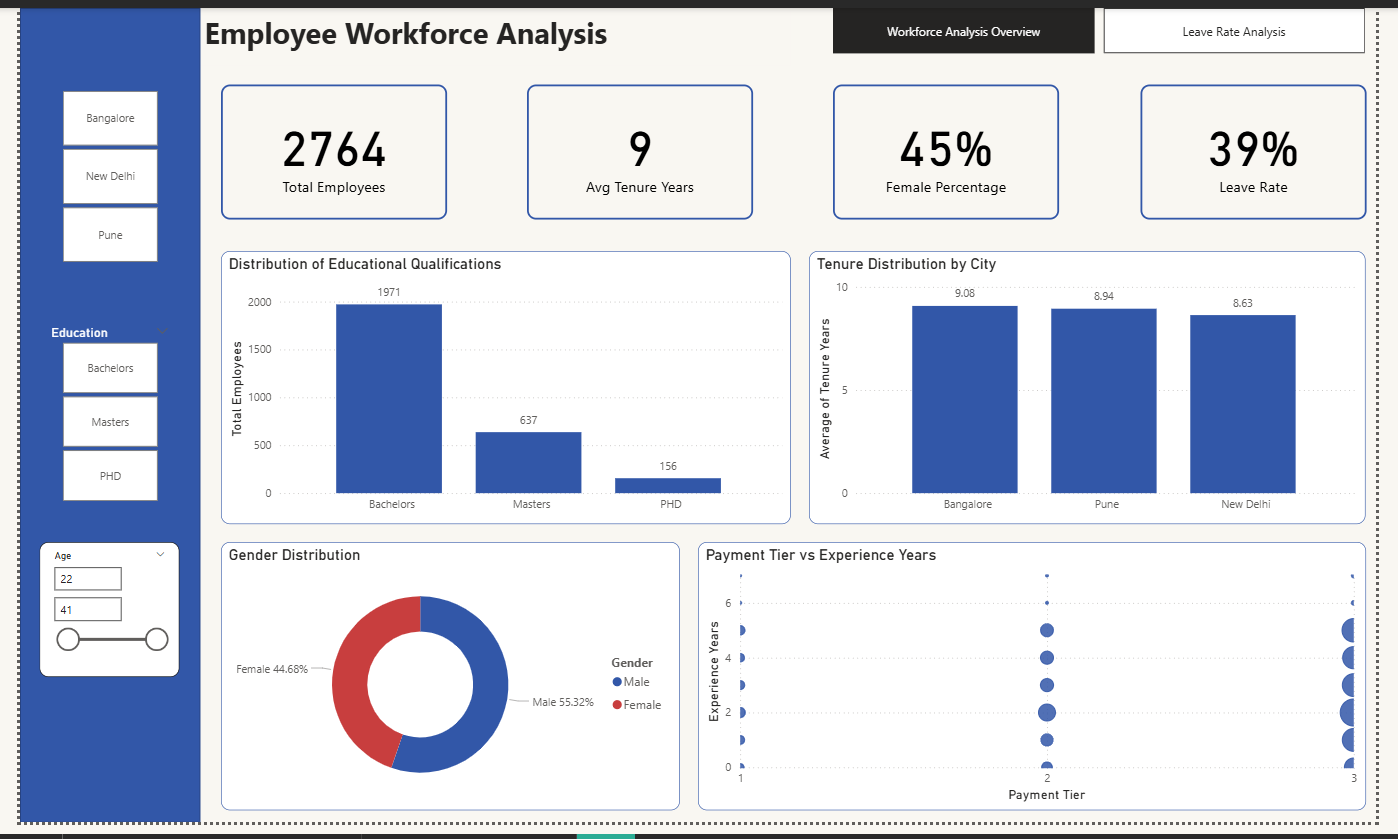

This screenshot's page, from the dashboard's own definition file:
{"tool":"powerbi","page":{"name":"Workforce Analysis Overview","canvas":[1280,720],"ordinal":0},"visuals":[{"type":"textbox","box":[0,0,641.1,72.6],"z":3000},{"type":"shape","box":[660.2,0,619.3,112],"z":4000},{"type":"card","fields":{"Values":["cleaned_employee_data.Overall Leave Rate"]},"box":[1134.1,0,145.4,110.5],"z":5000},{"type":"card","fields":{"Values":["cleaned_employee_data.Female Percentage"]},"box":[988.8,0,145.4,110.5],"z":5500},{"type":"card","fields":{"Values":["cleaned_employee_data.Average Tenure Years"]},"box":[843.4,1.5,145.4,110.5],"z":6000},{"type":"card","fields":{"Values":["cleaned_employee_data.Total Employees"]},"box":[698,1.5,145.4,110.5],"z":6500},{"type":"clusteredColumnChart","title":"Distribution of Educational Qualifications","fields":{"Category":["cleaned_employee_data.Education"],"Y":["cleaned_employee_data.Total Employees"]},"box":[233.7,123.2,506.8,289],"z":6501},{"type":"donutChart","title":"Gender Distribution","fields":{"Category":["cleaned_employee_data.Gender"],"Y":["cleaned_employee_data.Total Employees"]},"box":[21.2,427,508.8,280.1],"z":6502},{"type":"clusteredColumnChart","title":"Tenure Distribution by City","fields":{"Category":["cleaned_employee_data.City"],"Y":["Avg(cleaned_employee_data.Tenure Years)"]},"box":[756.3,123.2,506.8,289],"z":6504},{"type":"scatterChart","title":"Payment Tier vs Experience Years","fields":{"X":["cleaned_employee_data.Payment Tier"],"Y":["cleaned_employee_data.Experience Years"],"Size":["cleaned_employee_data.Total Employees"]},"box":[544.7,426.3,718.4,281.1],"z":6505},{"type":"slicer","fields":{"Values":["cleaned_employee_data.City"]},"box":[21.2,122.7,190.8,181.7],"z":6506},{"type":"slicer","fields":{"Values":["cleaned_employee_data.EverBenched"]},"box":[21.2,304.4,201.4,107.5],"z":6507},{"type":"pageNavigator","box":[25.3,72.6,615.8,39.5],"z":6510}]}

Visuals, with their boxes on the page's 1280x720 design canvas (x1, y1, x2, y2). These are canvas units, not pixel positions in the 1398x839 screenshot, which may show the page scaled, cropped or inside an application window:
textbox: box(0, 0, 641, 73)
shape: box(660, 0, 1280, 112)
card - cleaned_employee_data.Overall Leave Rate: box(1134, 0, 1280, 110)
card - cleaned_employee_data.Female Percentage: box(989, 0, 1134, 110)
card - cleaned_employee_data.Average Tenure Years: box(843, 2, 989, 112)
card - cleaned_employee_data.Total Employees: box(698, 2, 843, 112)
"Distribution of Educational Qualifications" clusteredColumnChart: box(234, 123, 740, 412)
"Gender Distribution" donutChart: box(21, 427, 530, 707)
"Tenure Distribution by City" clusteredColumnChart: box(756, 123, 1263, 412)
"Payment Tier vs Experience Years" scatterChart: box(545, 426, 1263, 707)
slicer - cleaned_employee_data.City: box(21, 123, 212, 304)
slicer - cleaned_employee_data.EverBenched: box(21, 304, 223, 412)
pageNavigator: box(25, 73, 641, 112)
